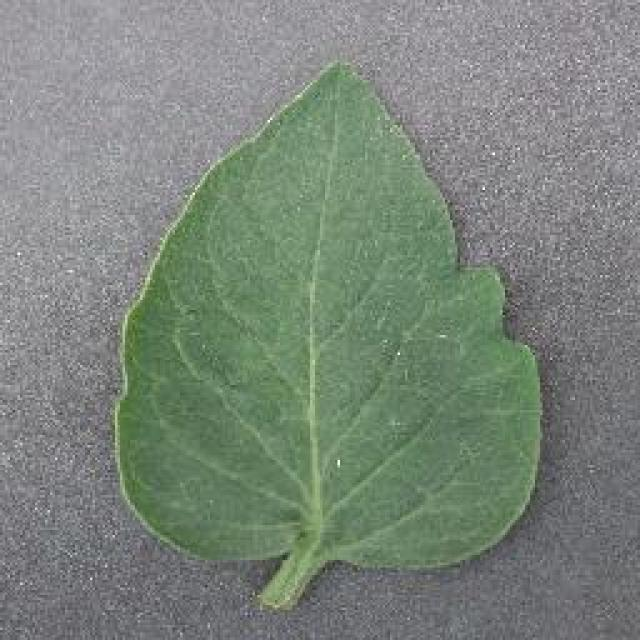Healthy: (100, 58, 545, 622)
